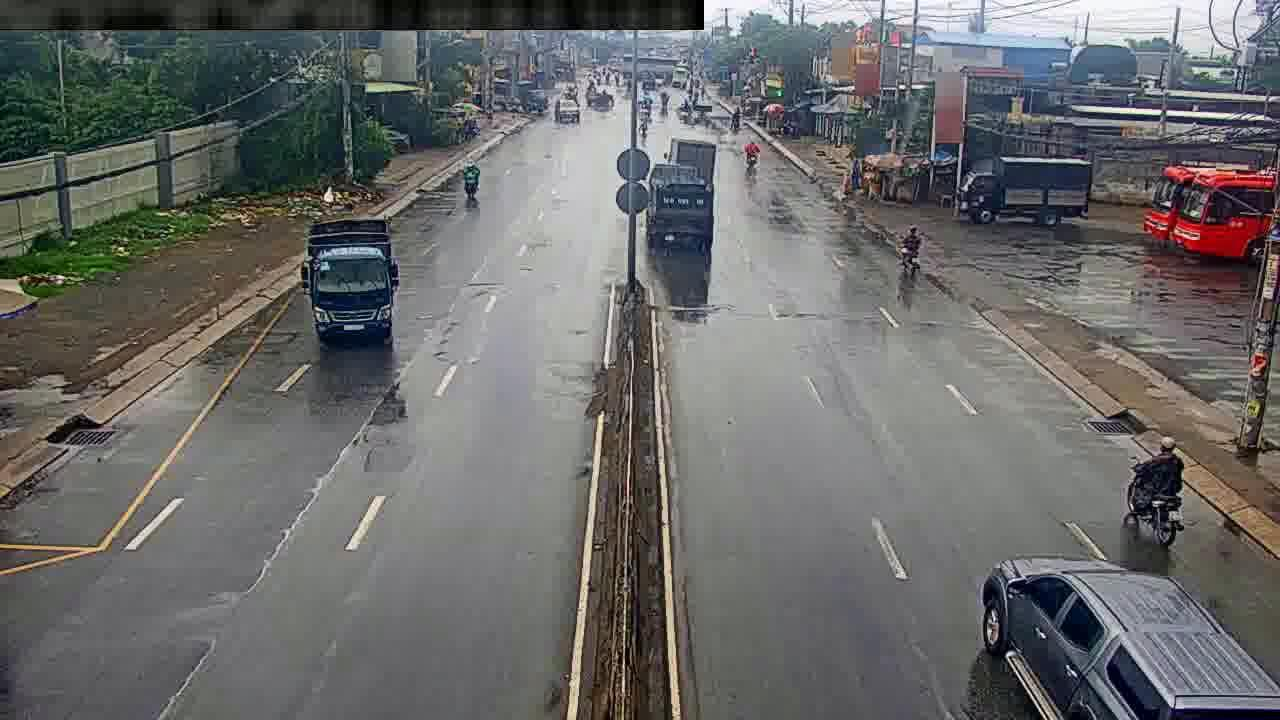8: (304, 215, 396, 340), (647, 162, 713, 241), (663, 138, 718, 166)
container: (984, 558, 1280, 720)
motorbike: (1125, 440, 1185, 543), (901, 221, 922, 278), (462, 158, 481, 205), (741, 135, 762, 175)
